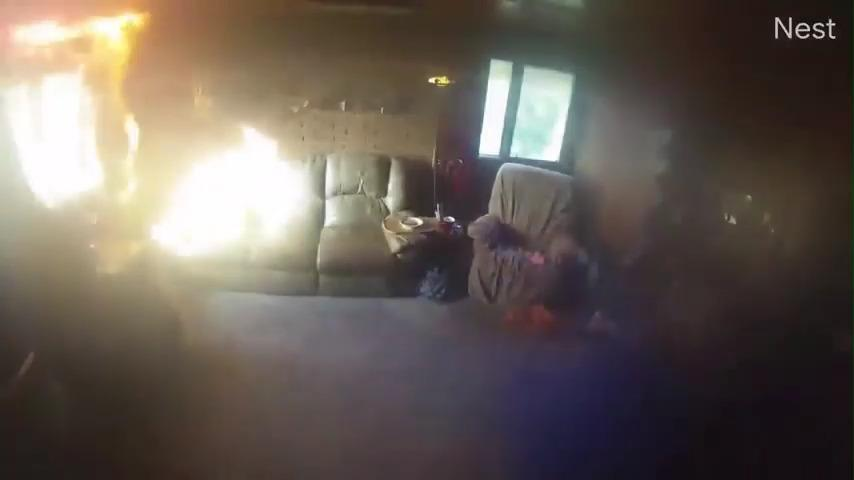fire: (3, 1, 169, 71)
